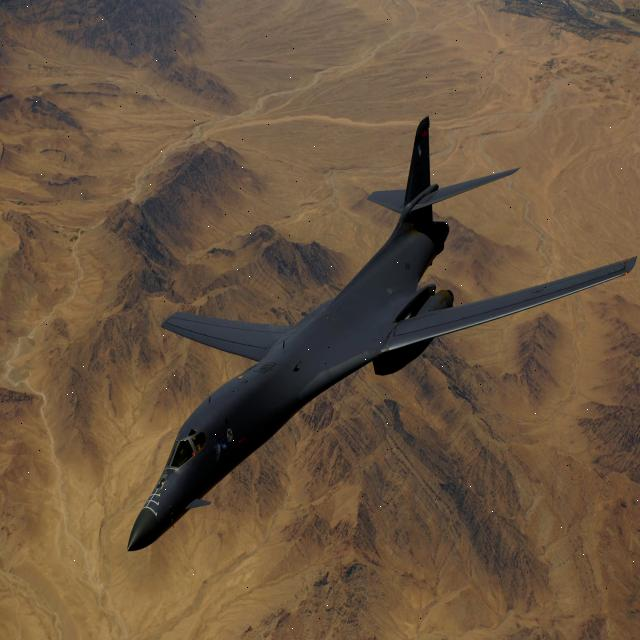B1: (123, 88, 640, 581)
